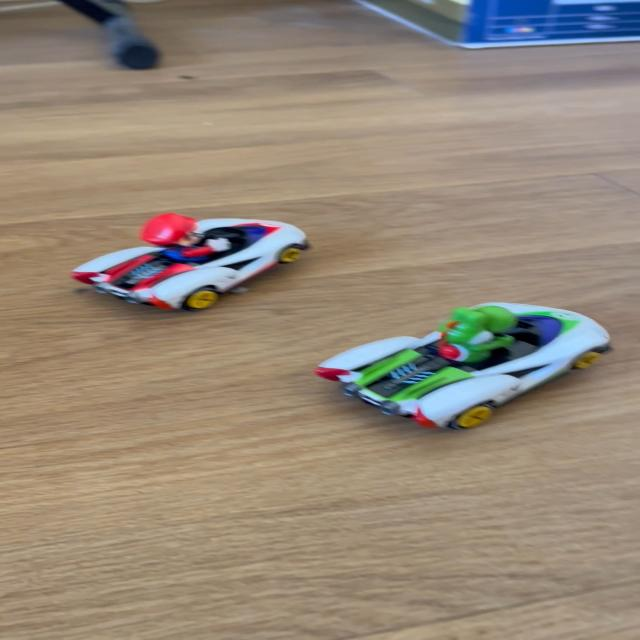mario: (40, 203, 328, 316)
yoshi: (301, 289, 614, 436)
